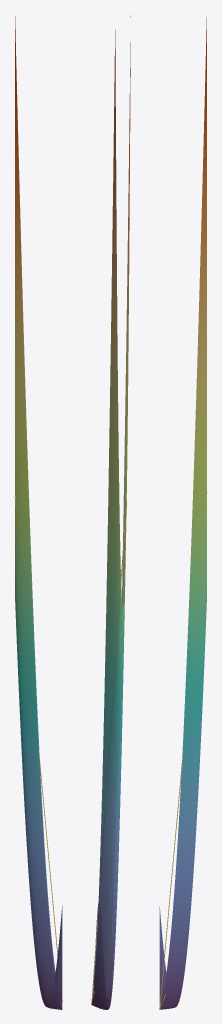
File: hw1_newton_x0_neg1p9_2p2.glb
3 renders of one model, left to right at view 1: azimuth 90°, elevation 25°; view 2: azimuth 210°, elevation 25°; view 3: azimuth 270°, elevation 25°, orthographic.
Bounding box in the file's own units: 4.09 × 248 × 10.95.
